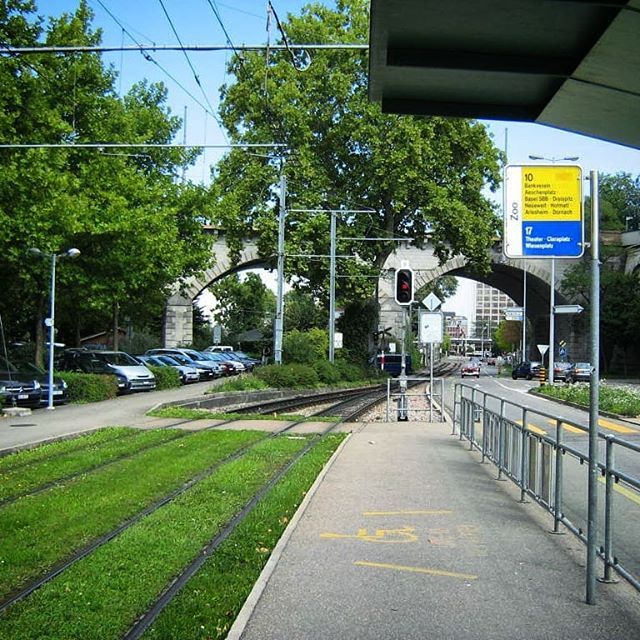sign: (493, 161, 598, 270)
street: (459, 362, 640, 580)
train track: (1, 366, 411, 640)
tree: (214, 1, 494, 356), (1, 1, 211, 308)
